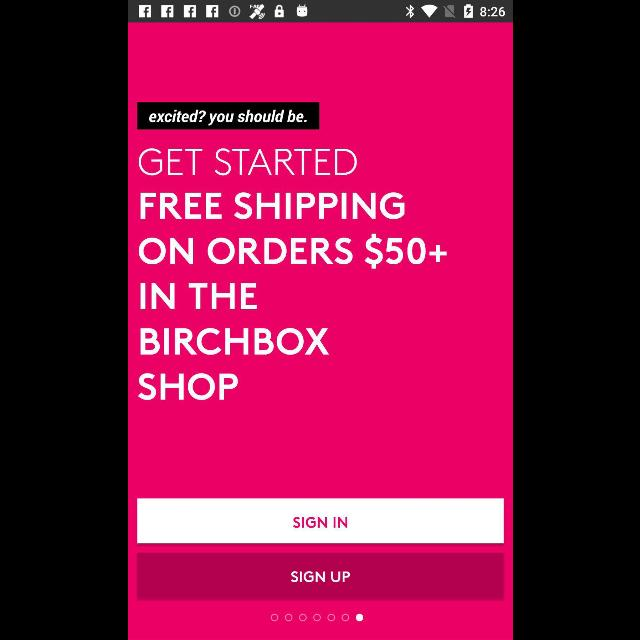pageindicator: (269, 614, 363, 622)
text: (138, 192, 446, 400), (138, 148, 356, 176), (138, 102, 318, 130)
textbutton: (135, 552, 502, 600), (136, 498, 504, 544)
uppertaskbar: (128, 1, 512, 23)
